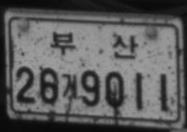0: (104, 70, 124, 108)
1: (154, 72, 173, 110), (129, 71, 147, 110)
2: (15, 64, 35, 103)
6: (38, 66, 58, 103)
9: (80, 69, 100, 107)
거: (61, 72, 77, 98)
부산_D: (49, 30, 139, 60)
